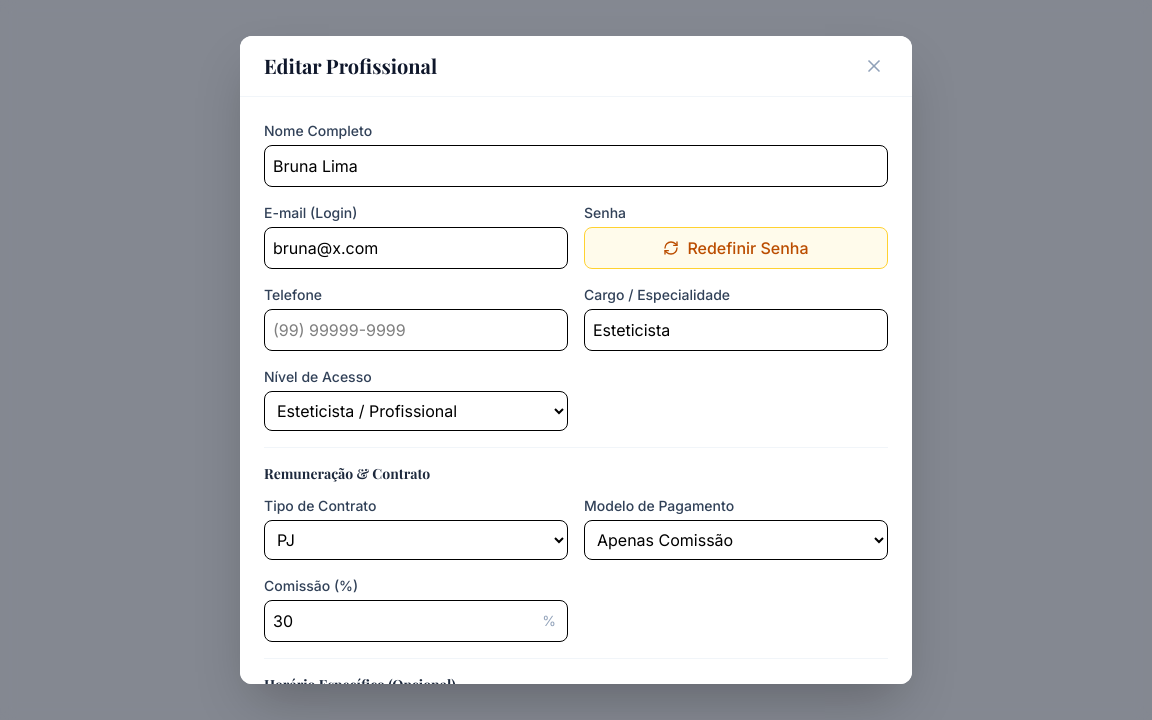
Test: ProfessionalModal › o campo "Comissão (%)" aparece só para remuneração por comissão/misto; "Salário Fixo" só para fixo/misto
Expected: the number field named "Comissão (%)" is shown, x1=264 y1=600 x2=568 y2=642
Expected: the field labelled "Salário Fixo Mensal" is not shown
Select "Apenas Salário Fixo" in the dropdown named "Modelo de Pagamento" at (736, 540), box x1=584 y1=520 x2=888 y2=560
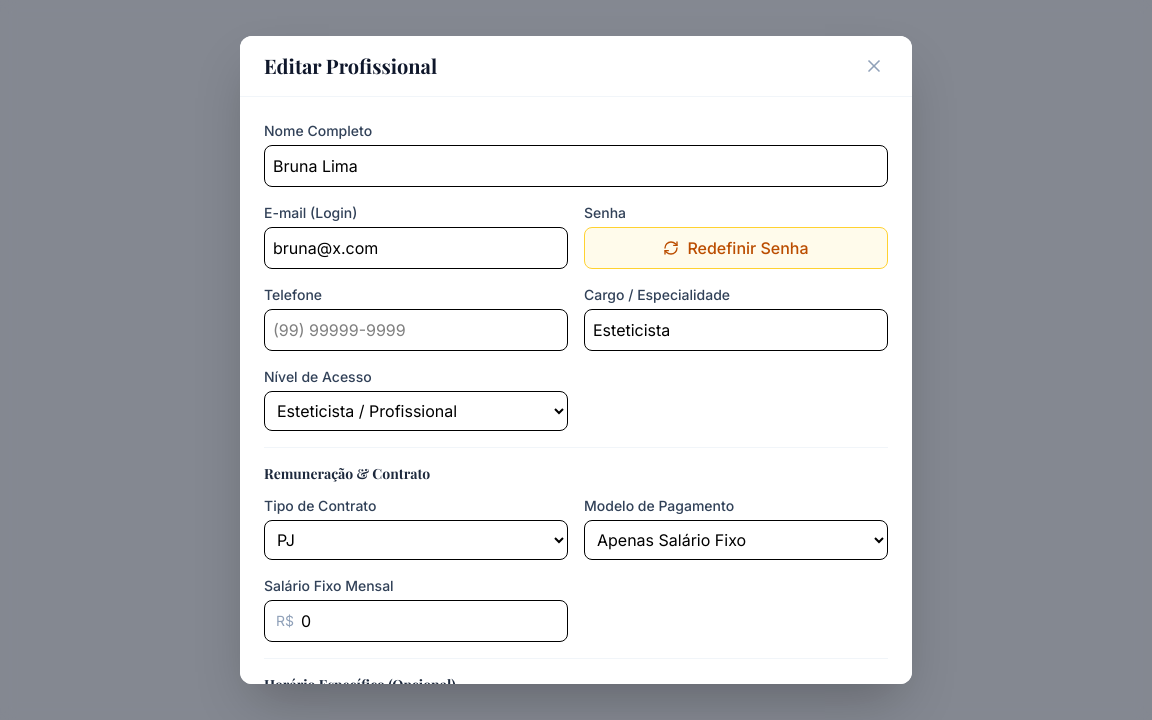
Now the label labelled "Comissão (%)" is gone
Now the number field named "Salário Fixo Mensal" is shown, box x1=264 y1=600 x2=568 y2=642
Select "Misto (Fixo + Comissão)" in the dropdown named "Modelo de Pagamento" at (736, 540), box x1=584 y1=520 x2=888 y2=560
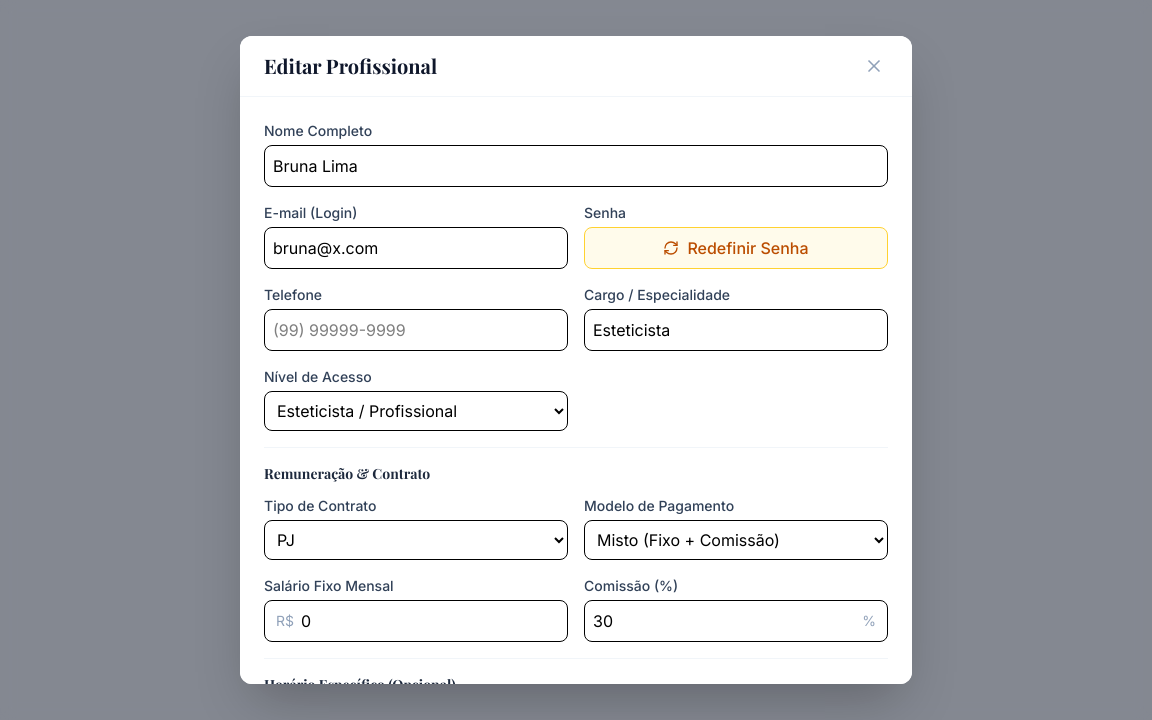
Now the number field named "Salário Fixo Mensal" is shown, box x1=264 y1=600 x2=568 y2=642
Now the number field named "Comissão (%)" is shown, box x1=584 y1=600 x2=888 y2=642
